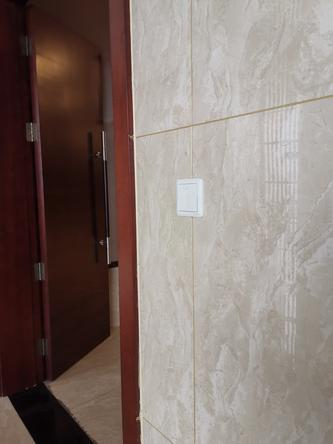switch: (174, 178, 199, 214)
